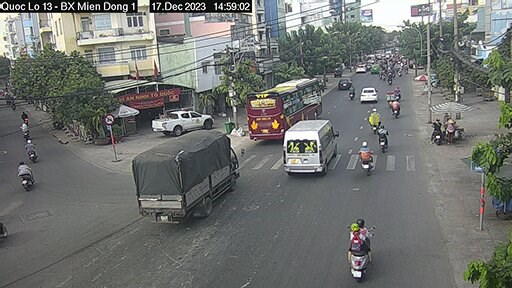car: (230, 76, 351, 139), (278, 116, 337, 178), (143, 114, 218, 130), (361, 82, 378, 104)
motorbike: (346, 217, 378, 282), (358, 129, 375, 165)
truck: (130, 130, 252, 222)
